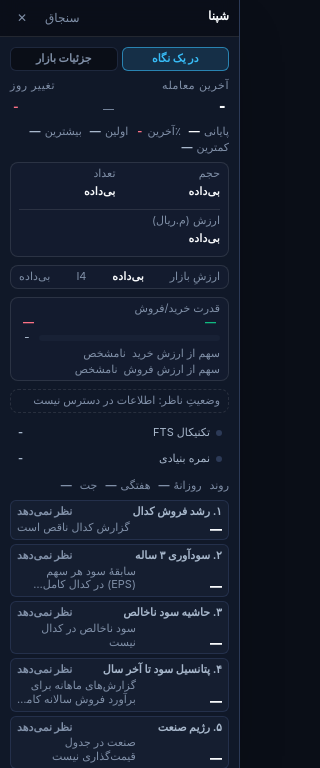
Test case: نشانگر مرحله در سایدبار چپ › پنج مظنه در «جزئیات بازار» است و بی‌باز کردن پرسیده نمی‌شود
Click the button with test id "inspector-tab-detail" at coordinates (64, 59), box left=10, top=47, right=118, bottom=71
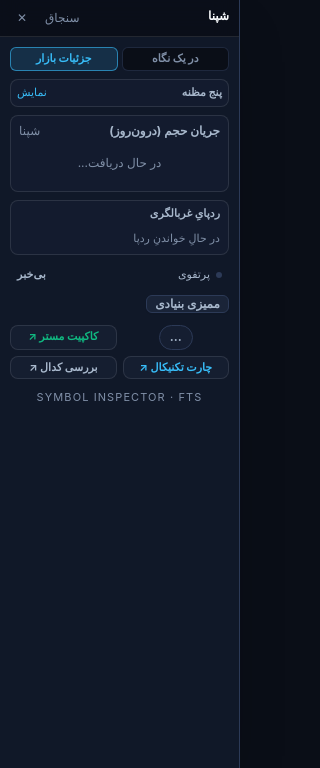
Click the button with test id "inspector-quotes-toggle" at coordinates (120, 93), box left=17, top=86, right=222, bottom=100
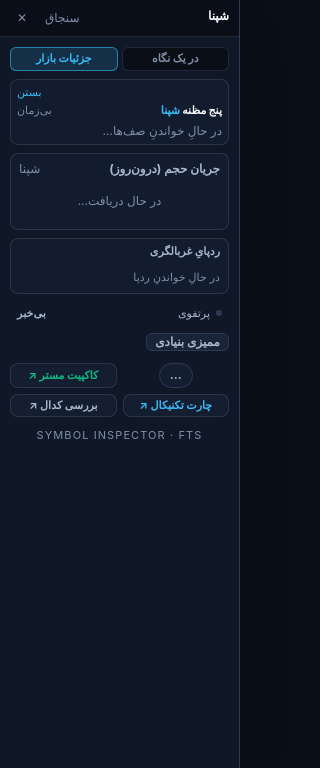
Now the element with test id "sidebar-orderbook" is shown, box left=17, top=104, right=222, bottom=138
